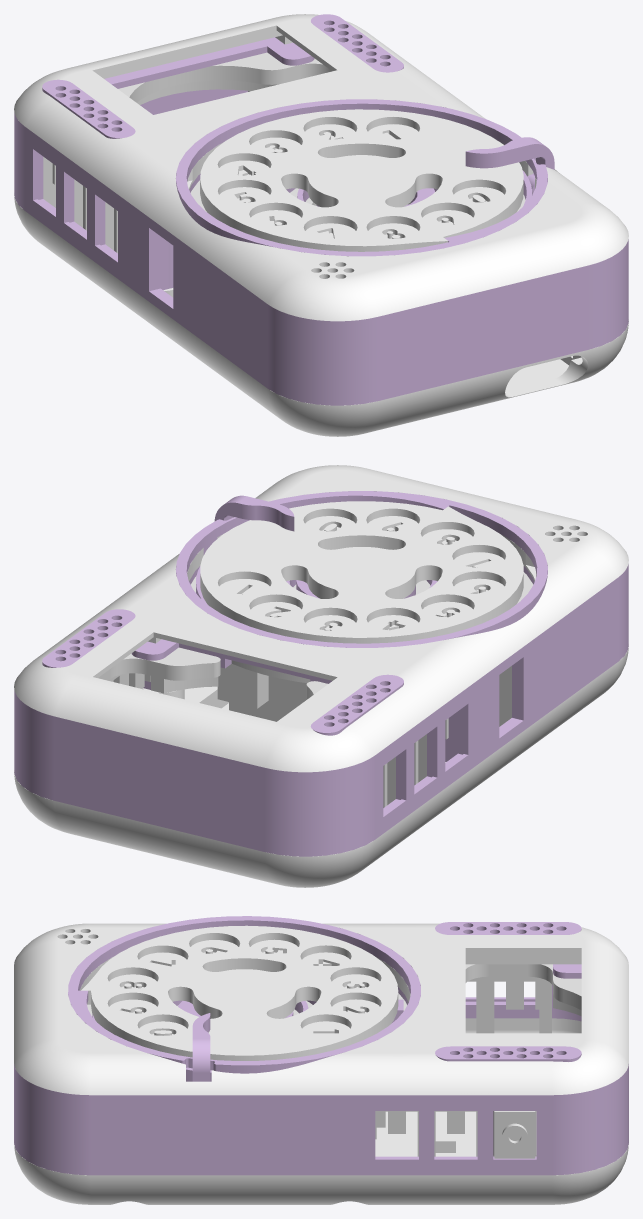
The model's file is rotary_cell_phone_v6.glb.
3 views of the same model, one above another, from view 1: azimuth 30°, elevation 25°; view 2: azimuth 150°, elevation 25°; view 3: azimuth 270°, elevation 25° (orthographic). The views are drawn at different scales.
Parts seen in each view (by area): view 1: SideSupport-1, FrontDialPlate-1, Dial-2, BackPlate-1, FrontDialRing-1, Speaker+ButtonsHolder-1, SpeakerGrill-1, SpeakerGrill-2, FingerStop-1, DialSpring-2; view 2: FrontDialPlate-1, SideSupport-1, Dial-2, BackPlate-1, FrontDialRing-1, Speaker+ButtonsHolder-1, DialHolder2-1, SpeakerGrill-1, SpeakerGrill-2, FingerStop-1; view 3: FrontDialPlate-1, SideSupport-1, Dial-2, BackPlate-1, FrontDialRing-1, Speaker+ButtonsHolder-1, SpeakerGrill-2, ButtonSelect-1, SpeakerGrill-1, FingerStop-1, DialSpring-2.
Boxes of the visible parts, x1,y1,x2,y2 form: SideSupport-1: (14, 37, 628, 405); FrontDialPlate-1: (14, 14, 628, 321); Dial-2: (200, 109, 523, 251); BackPlate-1: (14, 193, 628, 436); FrontDialRing-1: (176, 99, 547, 256); Speaker+ButtonsHolder-1: (43, 52, 331, 253); SpeakerGrill-1: (42, 79, 135, 138); SpeakerGrill-2: (311, 14, 403, 72); FingerStop-1: (465, 137, 554, 194); DialSpring-2: (286, 170, 532, 206); FrontDialPlate-1: (14, 465, 628, 772); SideSupport-1: (14, 564, 628, 856); Dial-2: (200, 501, 523, 643); BackPlate-1: (14, 644, 628, 887); FrontDialRing-1: (176, 491, 547, 647); Speaker+ButtonsHolder-1: (98, 647, 448, 807); DialHolder2-1: (191, 572, 533, 726); SpeakerGrill-1: (310, 674, 403, 735); SpeakerGrill-2: (42, 609, 135, 667); FingerStop-1: (214, 495, 294, 531); FrontDialPlate-1: (14, 923, 628, 1095); SideSupport-1: (14, 964, 628, 1175); Dial-2: (81, 925, 398, 1060); BackPlate-1: (14, 1018, 628, 1204); FrontDialRing-1: (68, 916, 420, 1073); Speaker+ButtonsHolder-1: (375, 964, 581, 1156); SpeakerGrill-2: (435, 1046, 581, 1061); ButtonSelect-1: (493, 1111, 536, 1158); SpeakerGrill-1: (435, 922, 581, 934); FingerStop-1: (192, 1013, 210, 1081); DialSpring-2: (92, 999, 403, 1081).
Size of the model in its own units: 0.076 by 0.036 by 0.12.
